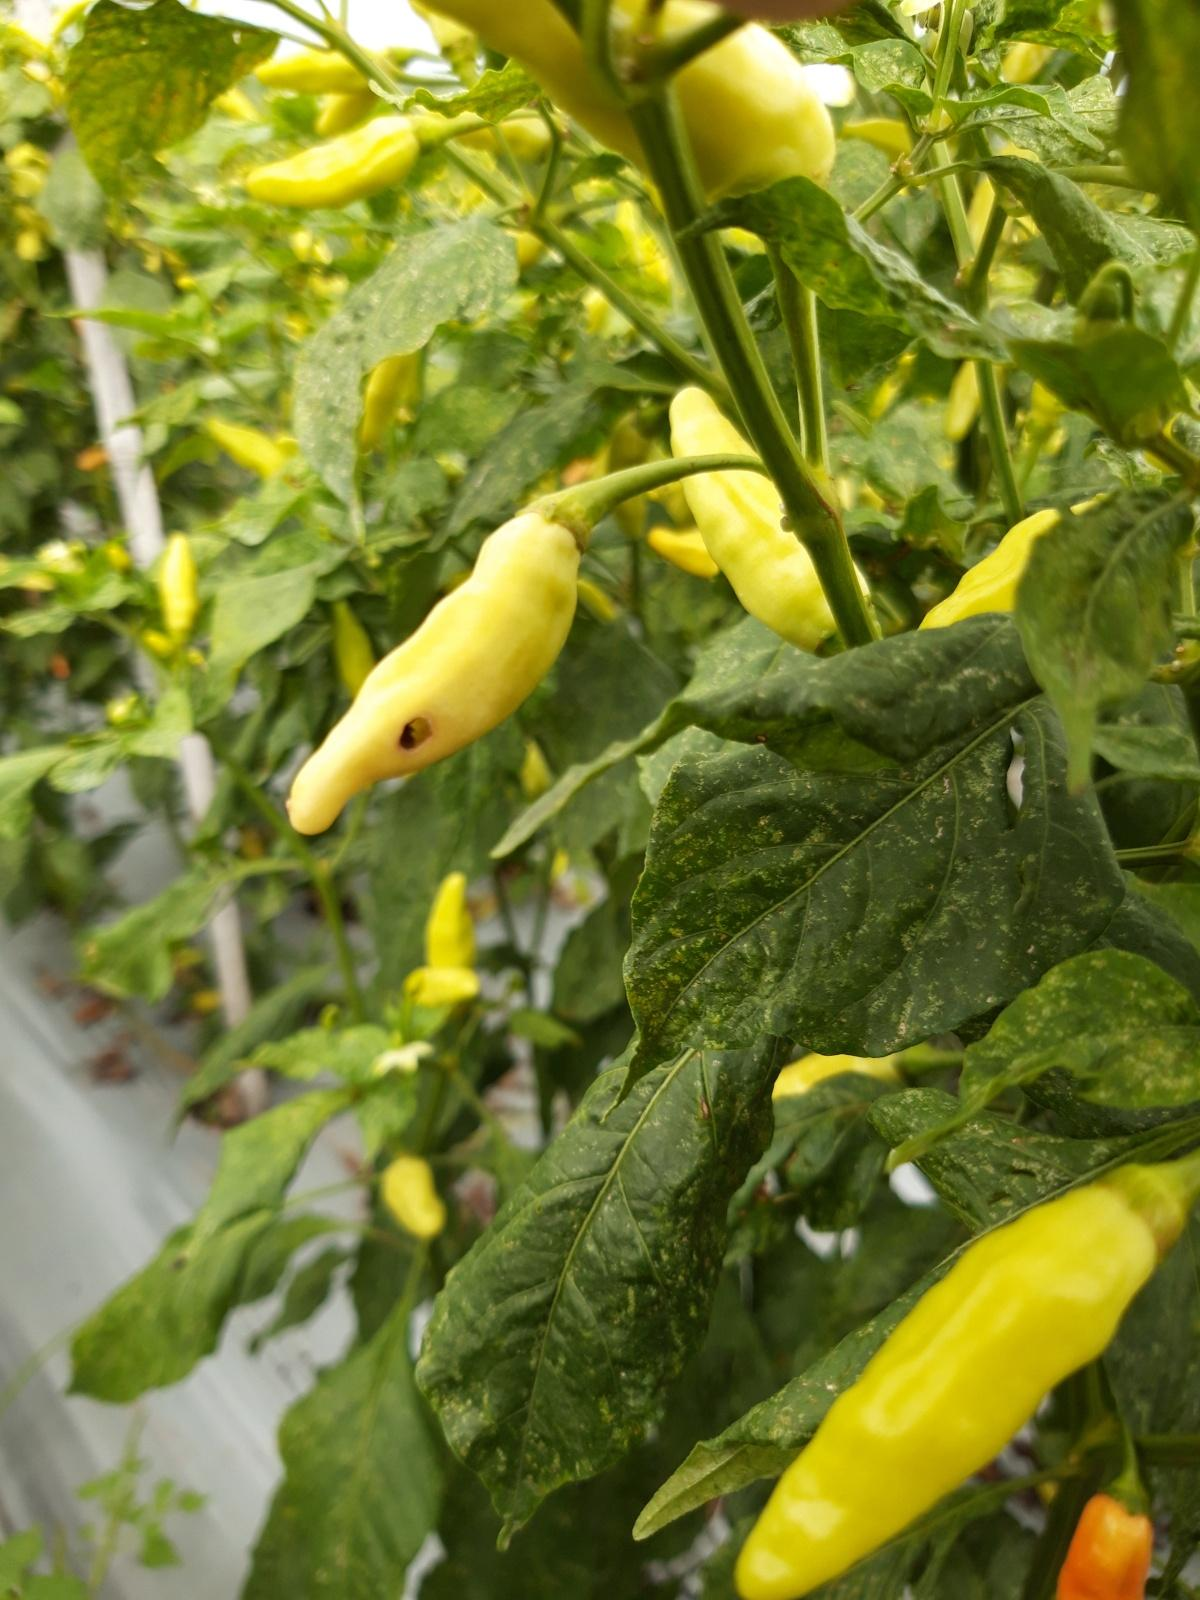cabai_normal: (734, 1163, 1167, 1600), (669, 387, 879, 659), (242, 113, 430, 207), (426, 868, 479, 975), (381, 1154, 449, 1236), (158, 532, 200, 641)
lalat_buah: (284, 499, 591, 839)
